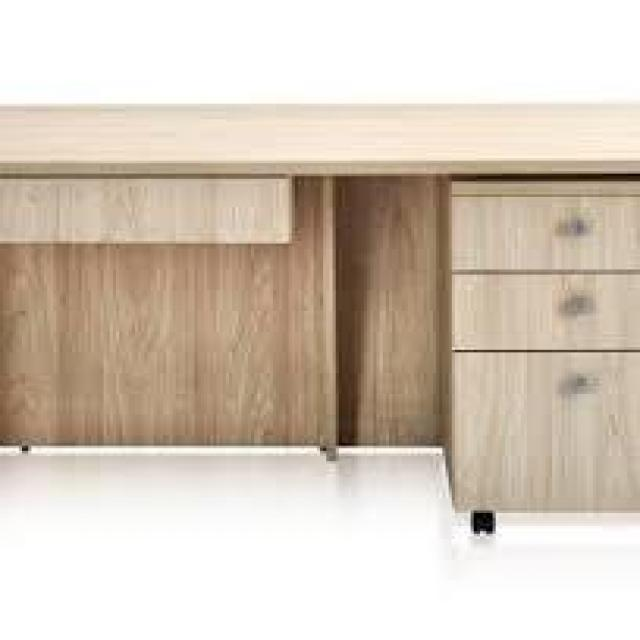desk: (1, 69, 638, 571)
